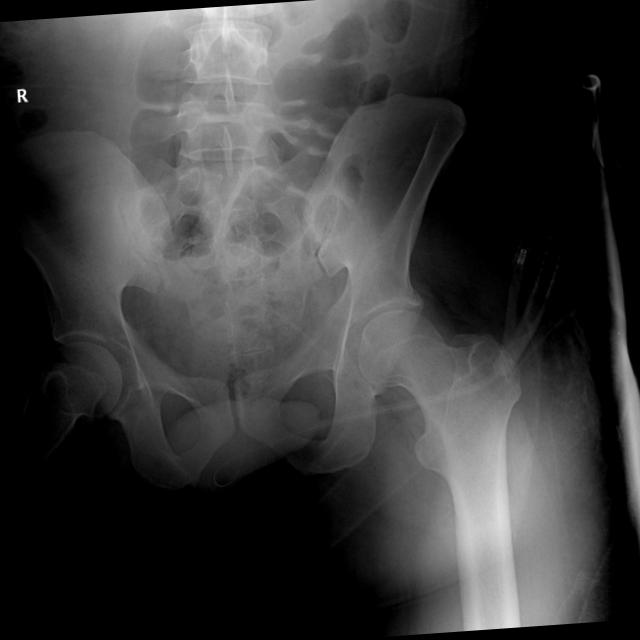normal-left: (358, 310, 521, 630)
